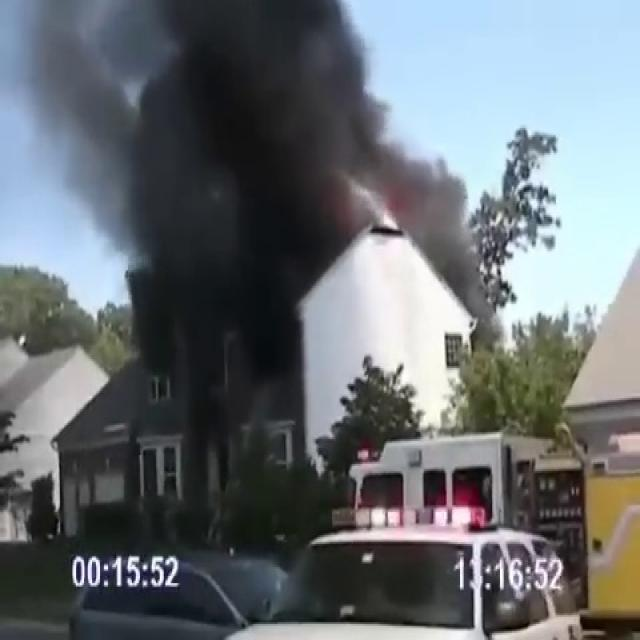Smoke: (7, 0, 478, 368)
